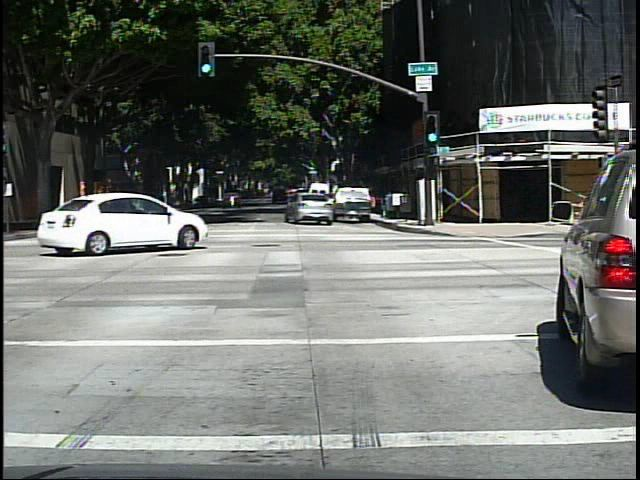person: (103, 185, 120, 220)
